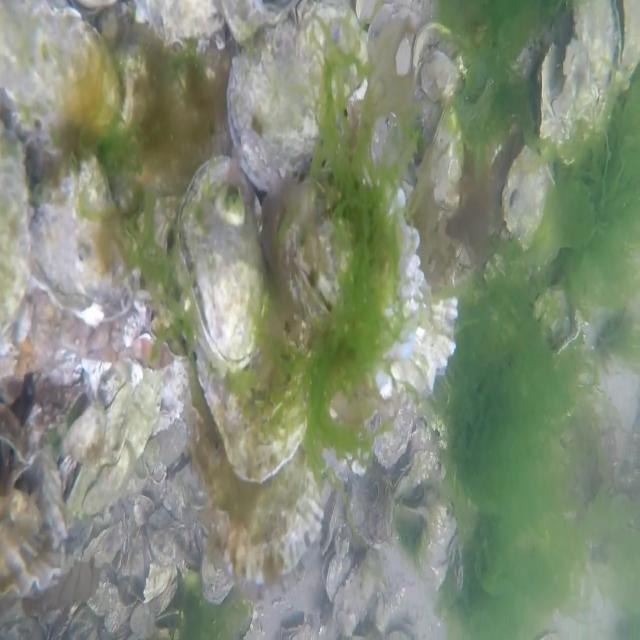Oyster-Closed: (227, 2, 359, 194), (179, 153, 270, 373), (23, 159, 137, 318), (0, 0, 122, 137), (419, 98, 464, 219), (502, 145, 550, 238), (320, 483, 344, 554), (391, 451, 421, 501)
Oyster-Indeterminate: (288, 177, 459, 390), (198, 371, 324, 578), (195, 282, 318, 486), (64, 368, 162, 526), (539, 0, 616, 148), (0, 522, 66, 596), (409, 18, 464, 102), (348, 450, 394, 550), (331, 552, 380, 637), (372, 384, 416, 466), (201, 530, 234, 606)
Oyster-Open: (612, 0, 640, 93), (320, 546, 354, 603), (398, 486, 428, 517)
